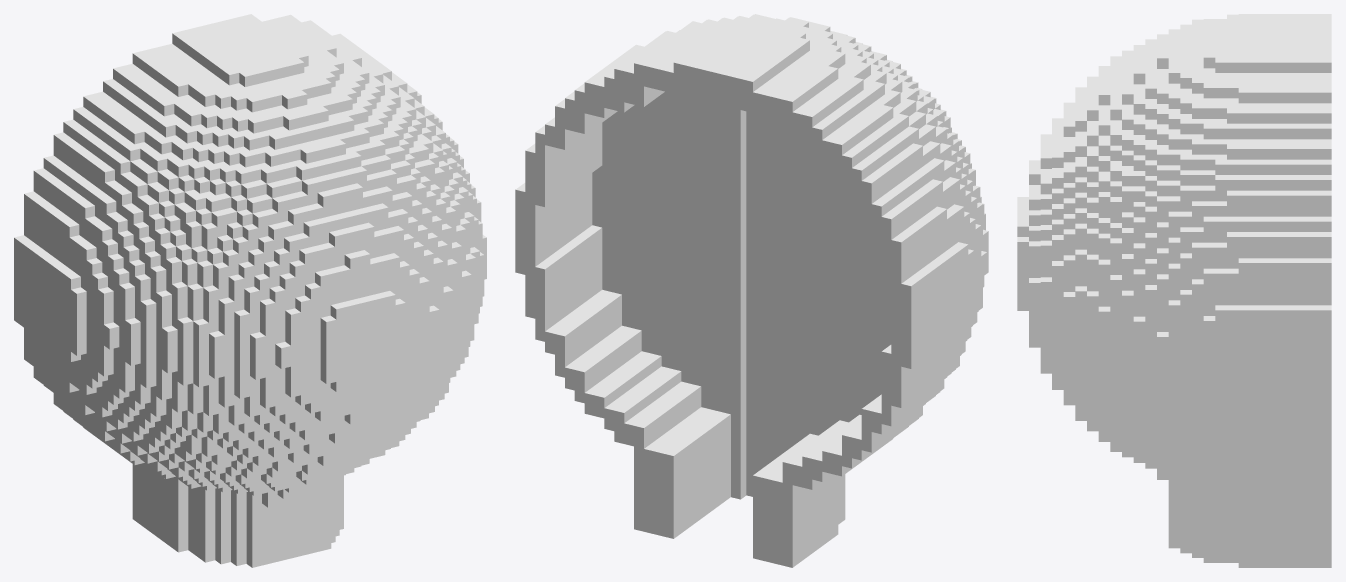
File: Igloo.obj
The picture shows the model from 3 angles, left to right: view 1: azimuth 30°, elevation 25°; view 2: azimuth 150°, elevation 25°; view 3: azimuth 270°, elevation 25°; orthographic projection. The views are drawn at different scales.
Size of the model in its own units: 40 by 46 by 27.
Materials: 1 (1 with a texture image).
